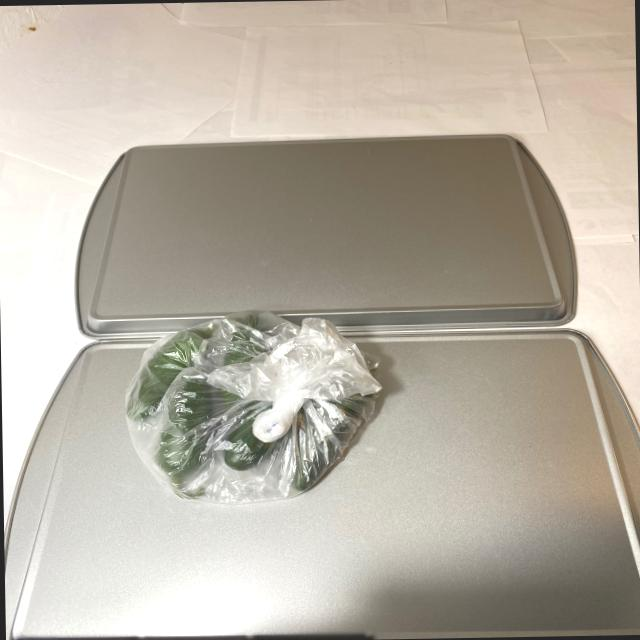chilli: (119, 310, 372, 500)
